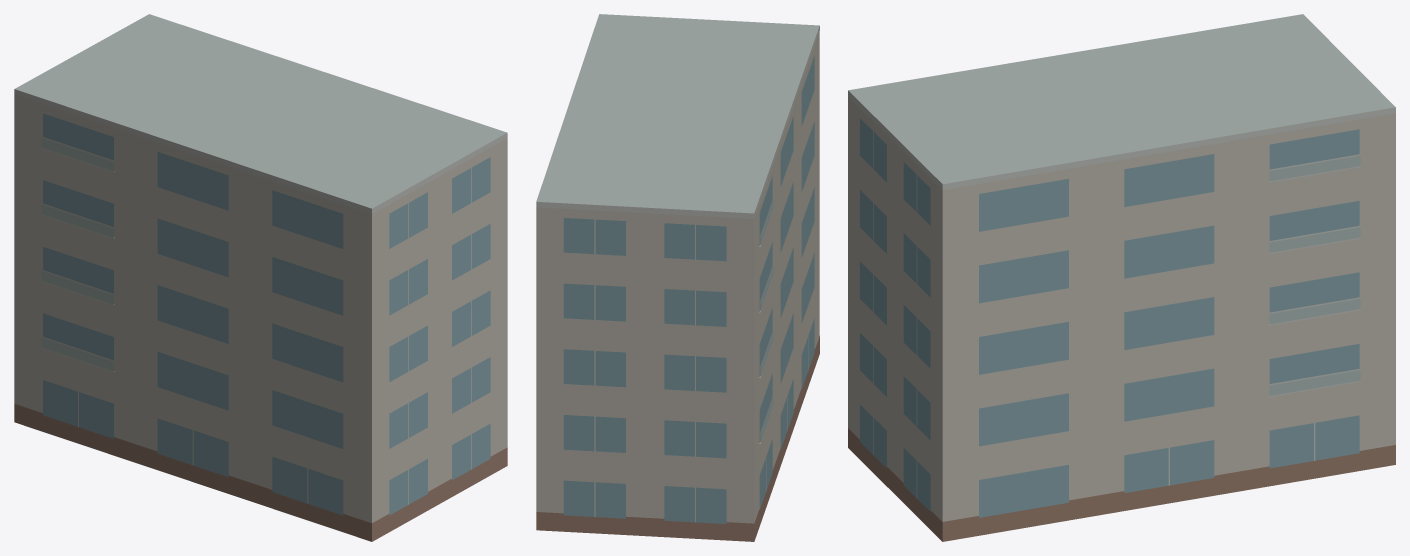
The model's file is survey-upis-33035821.glb.
The picture shows the model from 3 angles, left to right: view 1: azimuth 30°, elevation 25°; view 2: azimuth 150°, elevation 25°; view 3: azimuth 270°, elevation 25°; orthographic projection. The views are drawn at different scales.
Visible parts, largest first — view 1: survey-upis-33035821.tmp; view 2: survey-upis-33035821.tmp; view 3: survey-upis-33035821.tmp.
Boxes of the visible parts, box(x1,y1,x2,y2) form: survey-upis-33035821.tmp: box(14, 14, 507, 541); survey-upis-33035821.tmp: box(536, 14, 819, 541); survey-upis-33035821.tmp: box(848, 14, 1395, 541).
Size of the model in its own units: 15.13 by 14.8 by 20.56.
